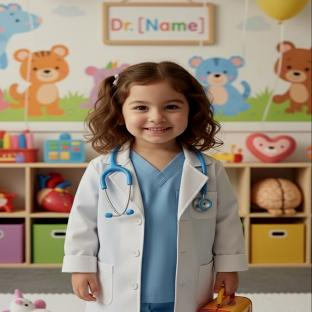Human: (62, 62, 248, 312)
